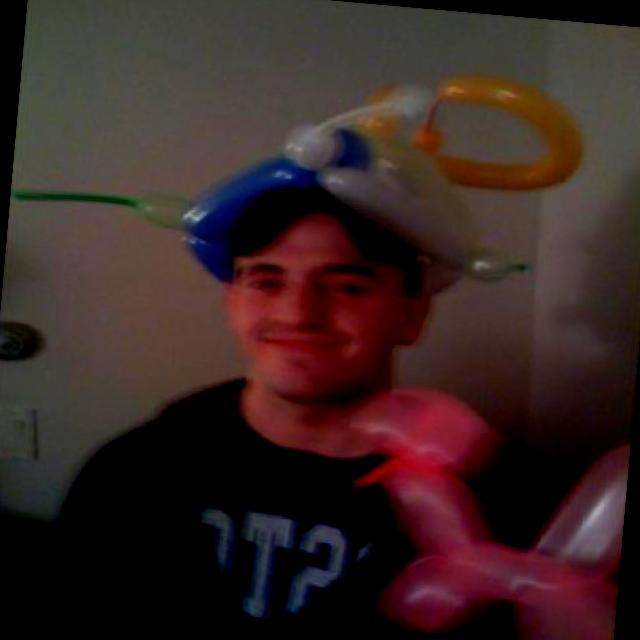Person: (7, 68, 611, 640)
